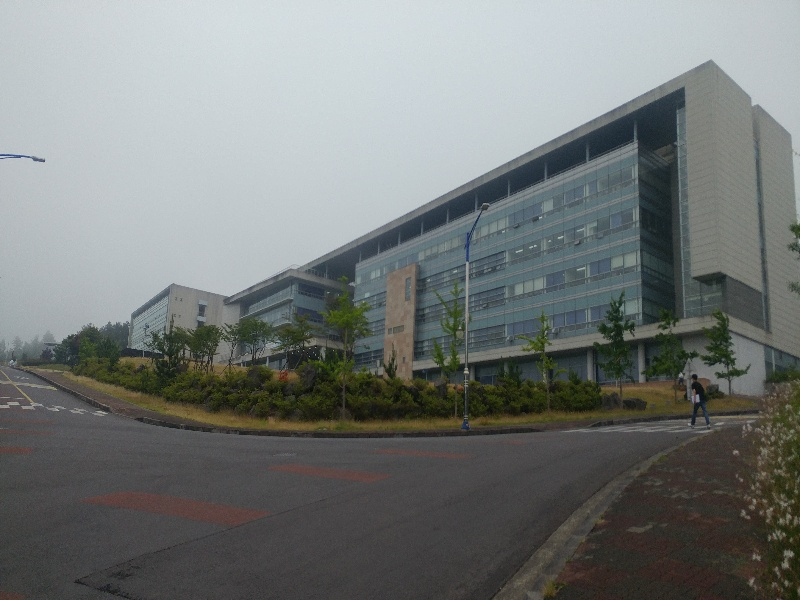College of Marine Science: (126, 285, 225, 352), (140, 296, 214, 331)
Engineering College Building 4: (228, 90, 794, 369), (480, 109, 794, 359), (248, 177, 460, 361)
